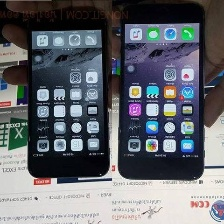phone: (113, 0, 208, 183), (21, 5, 114, 181)
